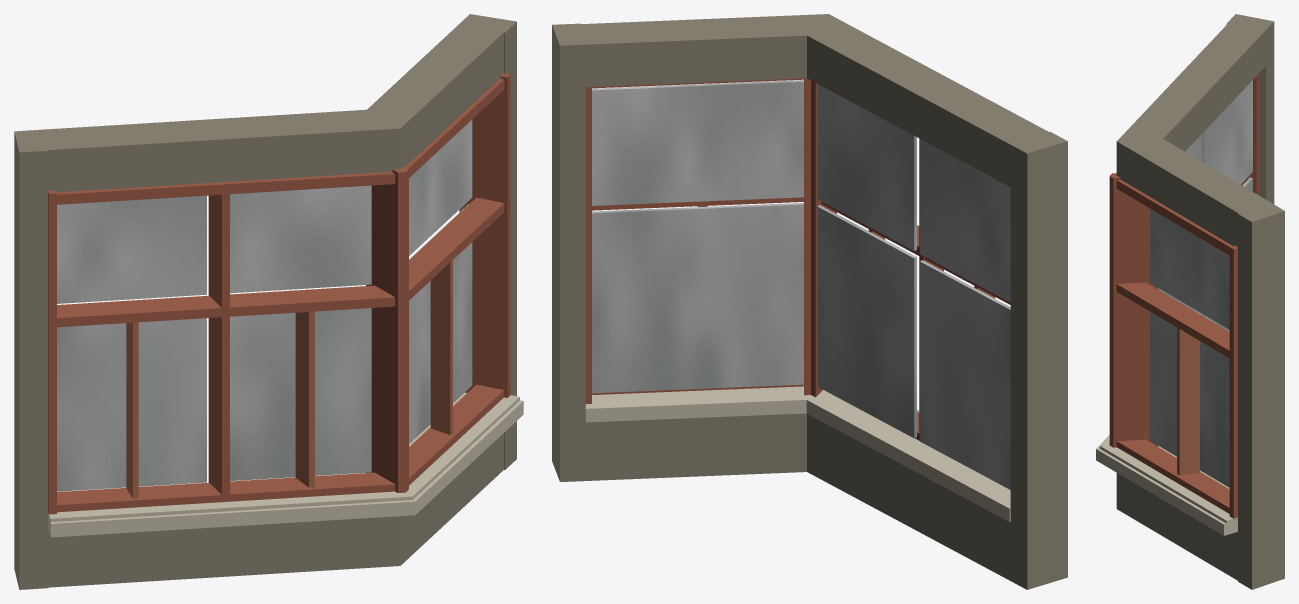
The model's file is hang-residence-red-corner-sashes-far.glb.
3 views of the same model, side by side, from view 1: azimuth 30°, elevation 25°; view 2: azimuth 150°, elevation 25°; view 3: azimuth 270°, elevation 25° (orthographic). The views are drawn at different scales.
Visible parts, largest first — view 1: 杭氏住宅舟山路455号上层转角红框窗; view 2: 杭氏住宅舟山路455号上层转角红框窗; view 3: 杭氏住宅舟山路455号上层转角红框窗.
Part boxes in pixels (x1,y1,x2,y2): 杭氏住宅舟山路455号上层转角红框窗: (14, 14, 523, 589); 杭氏住宅舟山路455号上层转角红框窗: (552, 14, 1067, 589); 杭氏住宅舟山路455号上层转角红框窗: (1096, 14, 1284, 589).
Bounding box in the file's own units: 2.61 × 2.15 × 1.
Materials: 5 (1 with a texture image).
